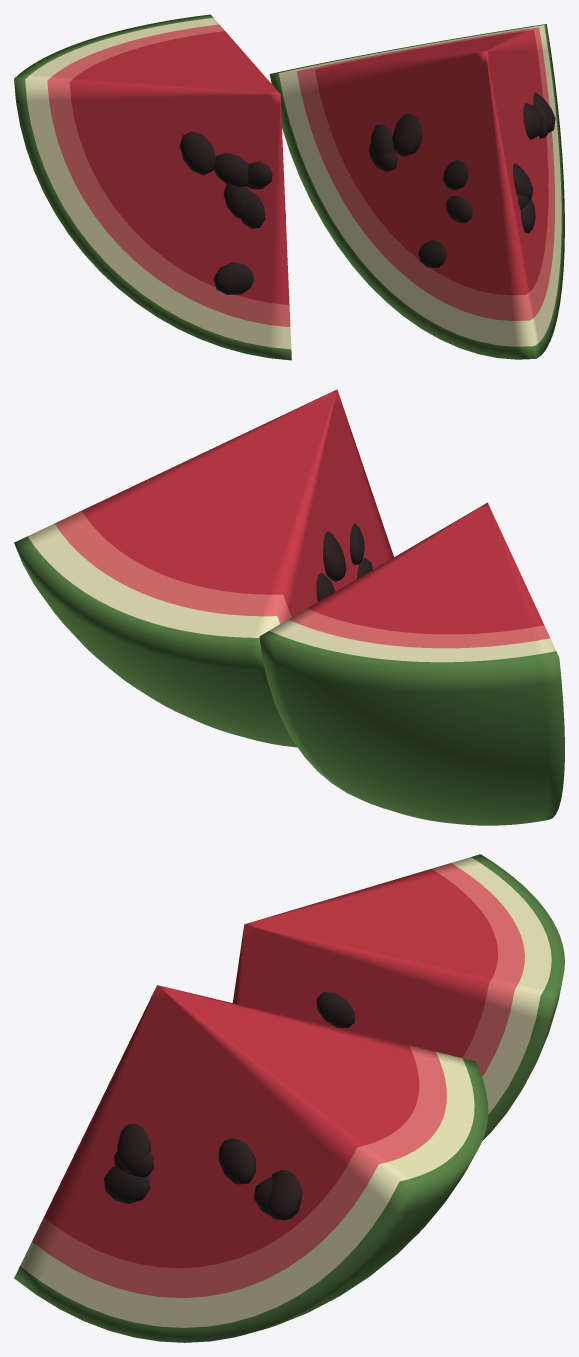
Rendered from watermelon_slices.glb.
The picture shows the model from 3 angles, top to bottom: view 1: azimuth 30°, elevation 25°; view 2: azimuth 150°, elevation 25°; view 3: azimuth 270°, elevation 25°; orthographic projection. The views are drawn at different scales.
Visible parts, largest first — view 1: WatermelonSlice_1, WatermelonSlice_0; view 2: WatermelonSlice_1, WatermelonSlice_0; view 3: WatermelonSlice_1, WatermelonSlice_0.
Boxes of the visible parts, bbox=[...] form: WatermelonSlice_1: bbox=[269, 24, 564, 359]; WatermelonSlice_0: bbox=[14, 14, 291, 360]; WatermelonSlice_1: bbox=[14, 389, 393, 747]; WatermelonSlice_0: bbox=[259, 502, 564, 825]; WatermelonSlice_1: bbox=[14, 985, 488, 1342]; WatermelonSlice_0: bbox=[232, 854, 564, 1140].
Bounding box in the file's own units: 0.1078 × 0.058 × 0.0886.
